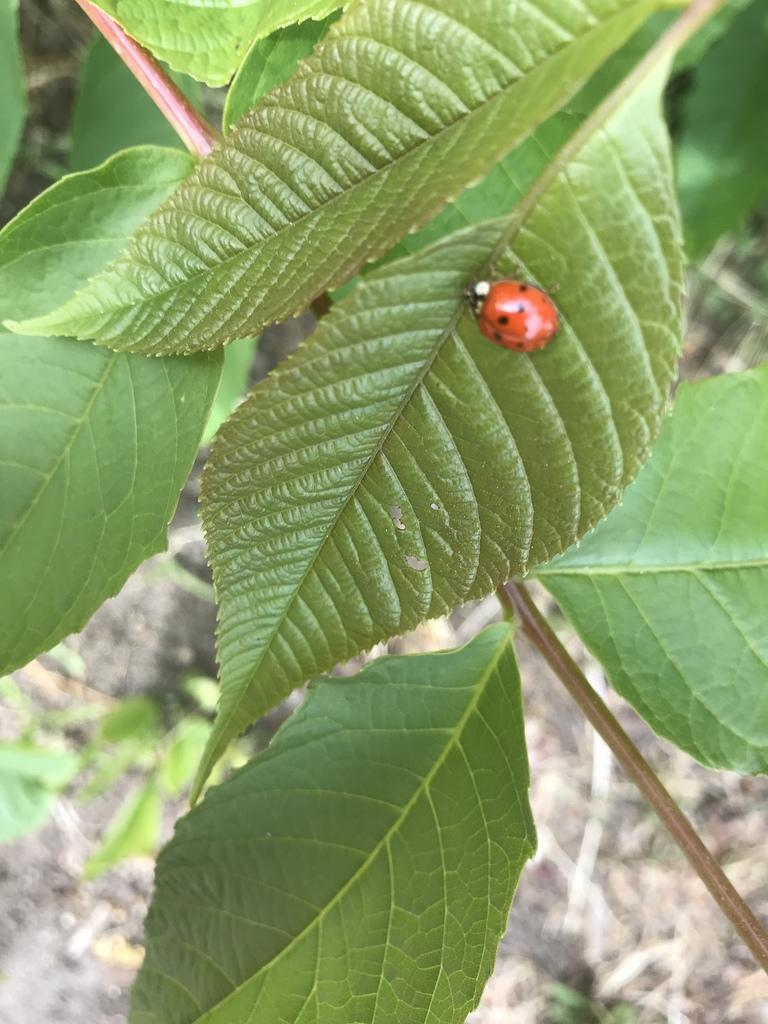ladybug: (461, 262, 564, 356)
